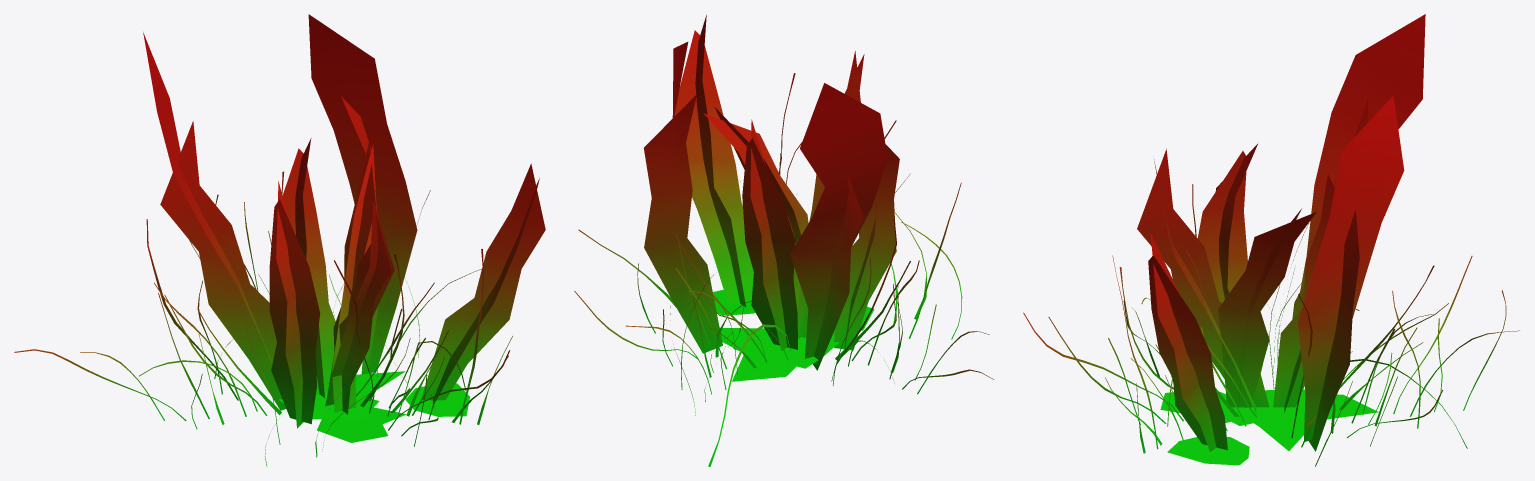
File: uddmcgbia_Var12_LOD0.fbx
The picture shows the model from 3 angles, left to right: view 1: azimuth 30°, elevation 25°; view 2: azimuth 150°, elevation 25°; view 3: azimuth 270°, elevation 25°; orthographic projection.
Visible parts, largest first — view 1: _1de7_Var12_LOD0; view 2: _1de7_Var12_LOD0; view 3: _1de7_Var12_LOD0.
Part boxes in pixels (bbox=[...]): _1de7_Var12_LOD0: bbox=[14, 14, 545, 466]; _1de7_Var12_LOD0: bbox=[574, 15, 994, 466]; _1de7_Var12_LOD0: bbox=[1023, 14, 1519, 466].
Size of the model in its own units: 15.53 by 12.77 by 14.79.
